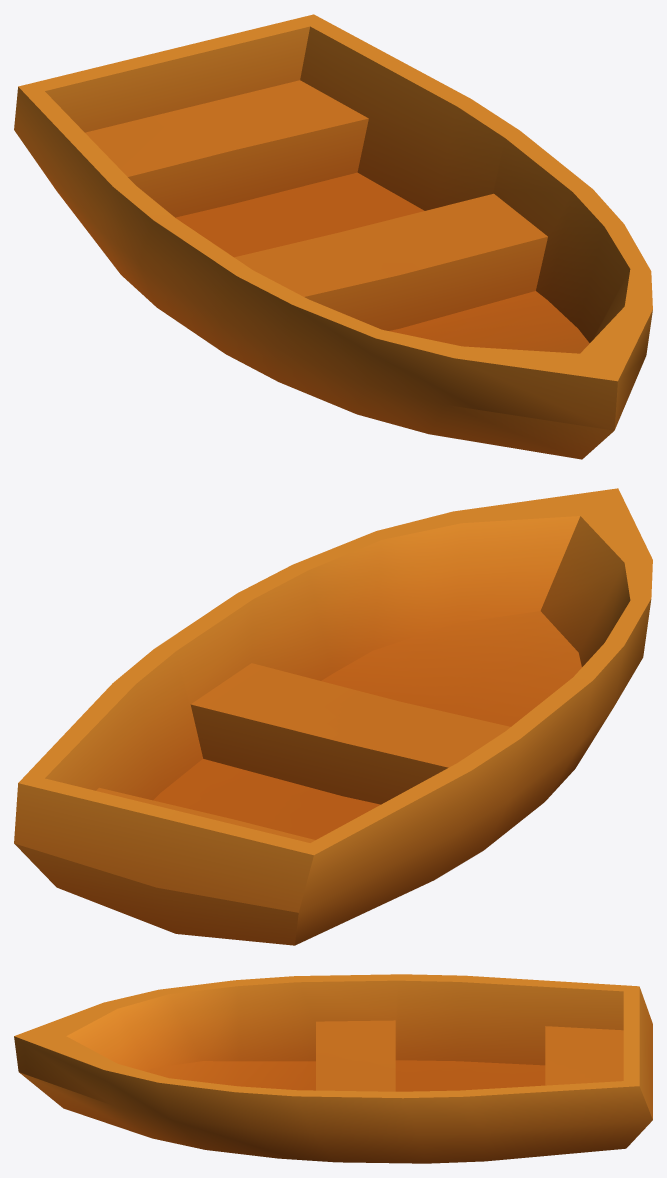
The model's file is Boat1.fbx.
3 views of the same model, one above another, from view 1: azimuth 30°, elevation 25°; view 2: azimuth 150°, elevation 25°; view 3: azimuth 270°, elevation 25° (orthographic). The views are drawn at different scales.
Parts seen in each view (by area): view 1: Hull_Boats_MAT_0; view 2: Hull_Boats_MAT_0; view 3: Hull_Boats_MAT_0.
Boxes of the visible parts, bbox=[...] form: Hull_Boats_MAT_0: bbox=[14, 14, 652, 459]; Hull_Boats_MAT_0: bbox=[14, 488, 652, 945]; Hull_Boats_MAT_0: bbox=[14, 974, 652, 1163].
Size of the model in its own units: 0.7959 by 0.3034 by 1.72.
